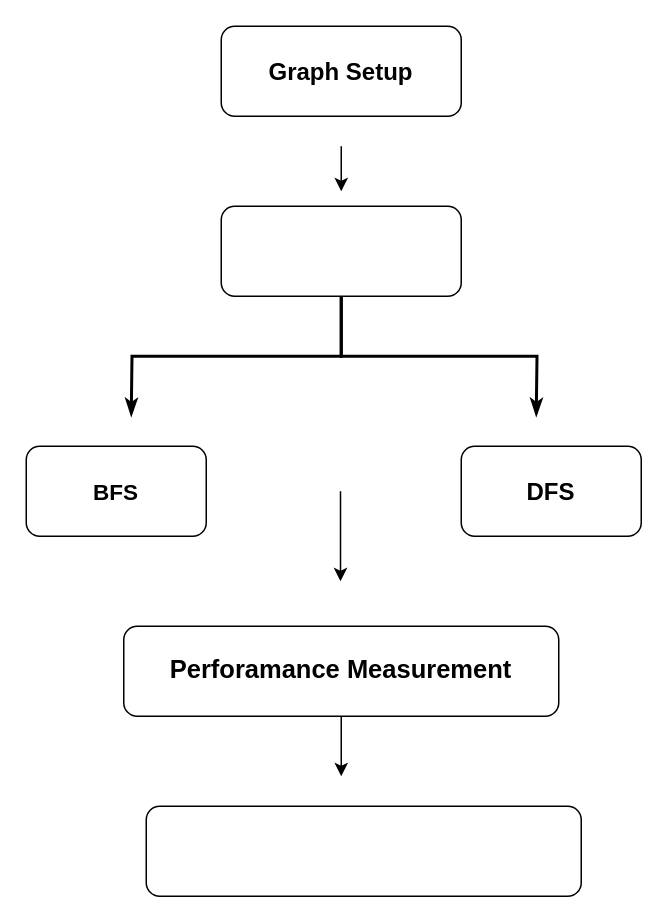
Image size: 668x923. Some labels were removed from this diagram. The centre of each missing label's shape, as x and y in pixels:
"Result Display" goes at point 363,850.
"Search Engine" goes at point 340,250.
